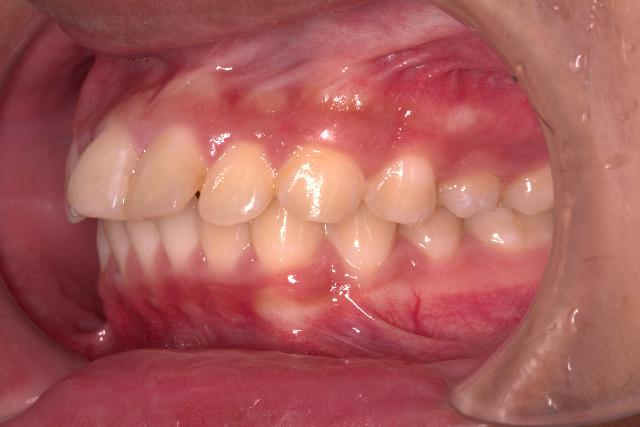canine class II 1/4: (247, 134, 398, 278)
molar class III 1/4: (464, 162, 558, 260)
